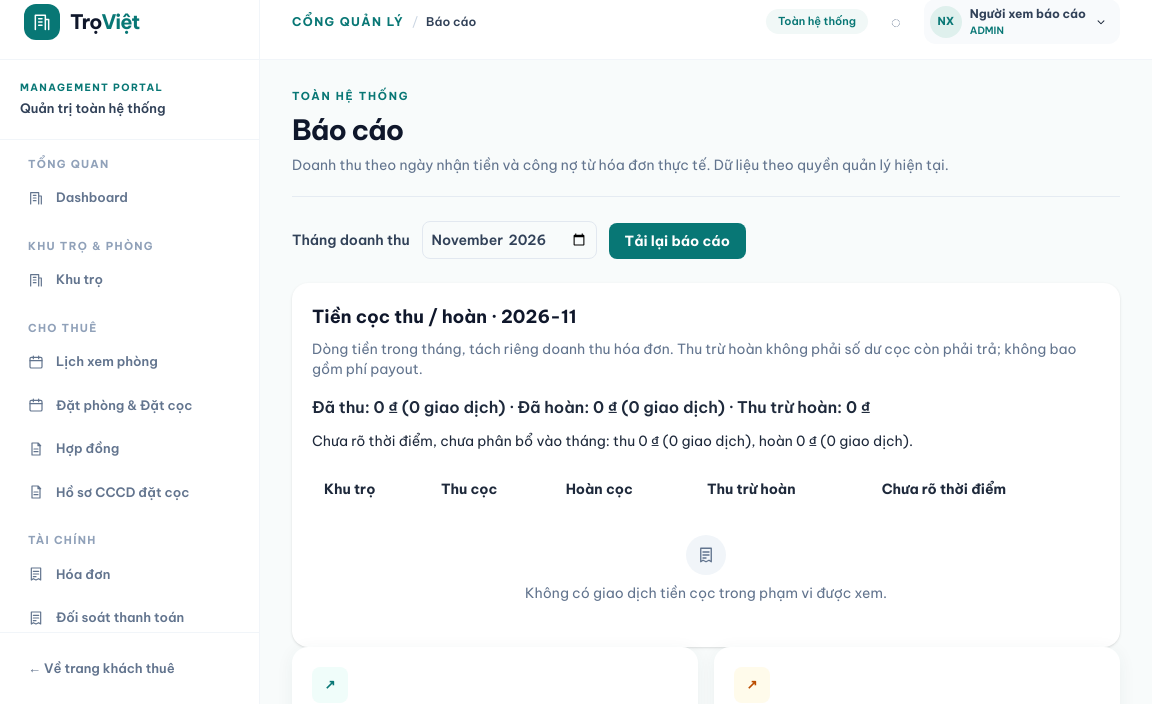
Test: management financial reports › filters revenue by selected month while retaining the debt as-of date
This screenshot has width=1152, height=704.
Replace the text in the field labelled "Tháng doanh thu" with "2026-10": [509, 240] box [422,220,596,258]
(page scrolled)
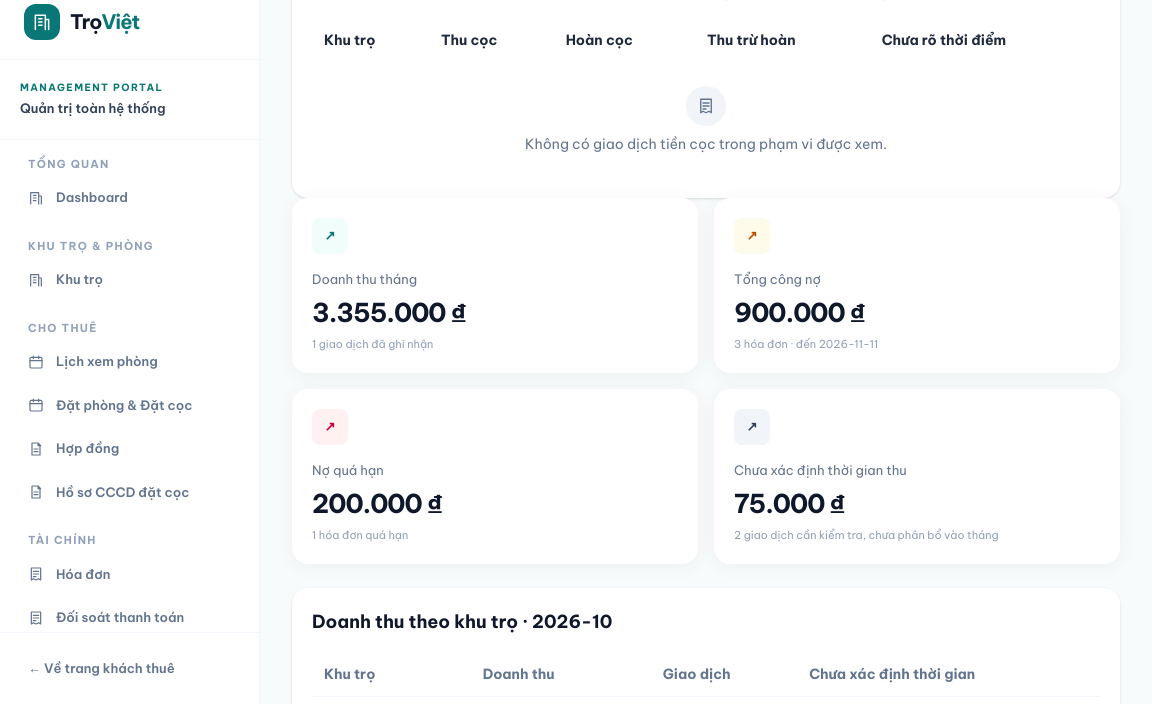
Expected: the text "3 hóa đơn · đến 2026-11-11" is shown, [734,337,878,351]
Result: the heading "Doanh thu theo khu trọ · 2026-10" is shown at [312,610,612,632]
